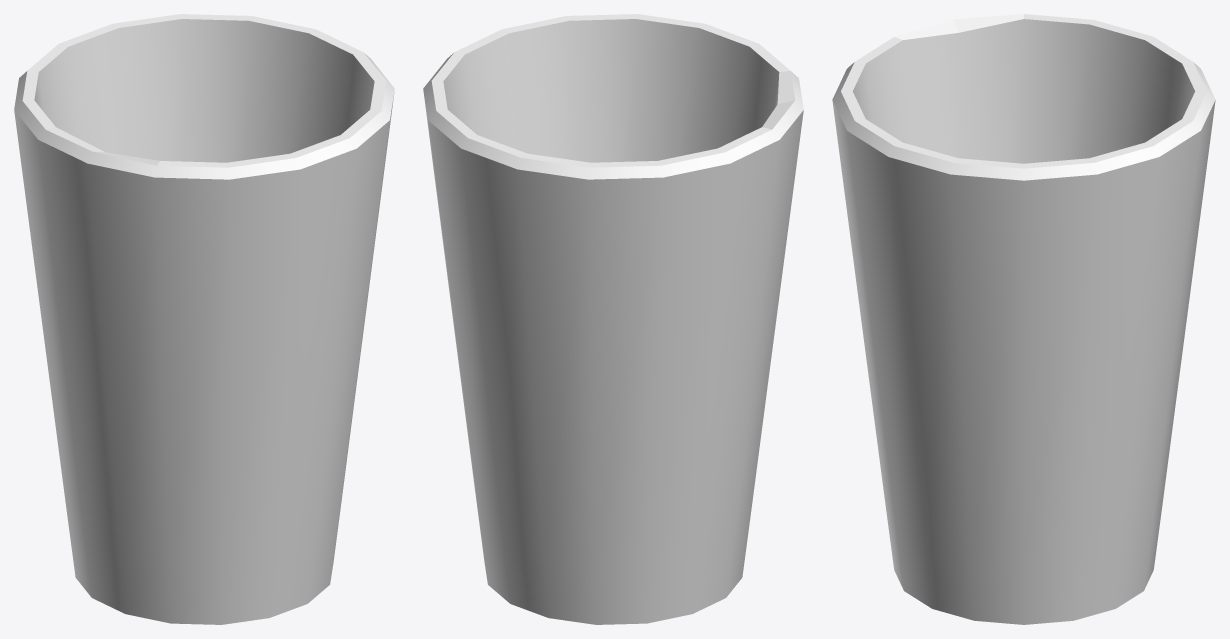
File: Prop_CupGlass.glb
3 renders of one model, left to right at view 1: azimuth 30°, elevation 25°; view 2: azimuth 150°, elevation 25°; view 3: azimuth 270°, elevation 25°, orthographic.
Parts seen in each view (by area): view 1: Prop_CupGlass; view 2: Prop_CupGlass; view 3: Prop_CupGlass.
Part boxes in pixels (bbox=[...]): Prop_CupGlass: bbox=[14, 14, 394, 624]; Prop_CupGlass: bbox=[423, 14, 803, 624]; Prop_CupGlass: bbox=[832, 14, 1215, 624].
Bounding box in the file's own units: 0.5961 × 0.8226 × 0.5961.
1 material, 1 textured.
